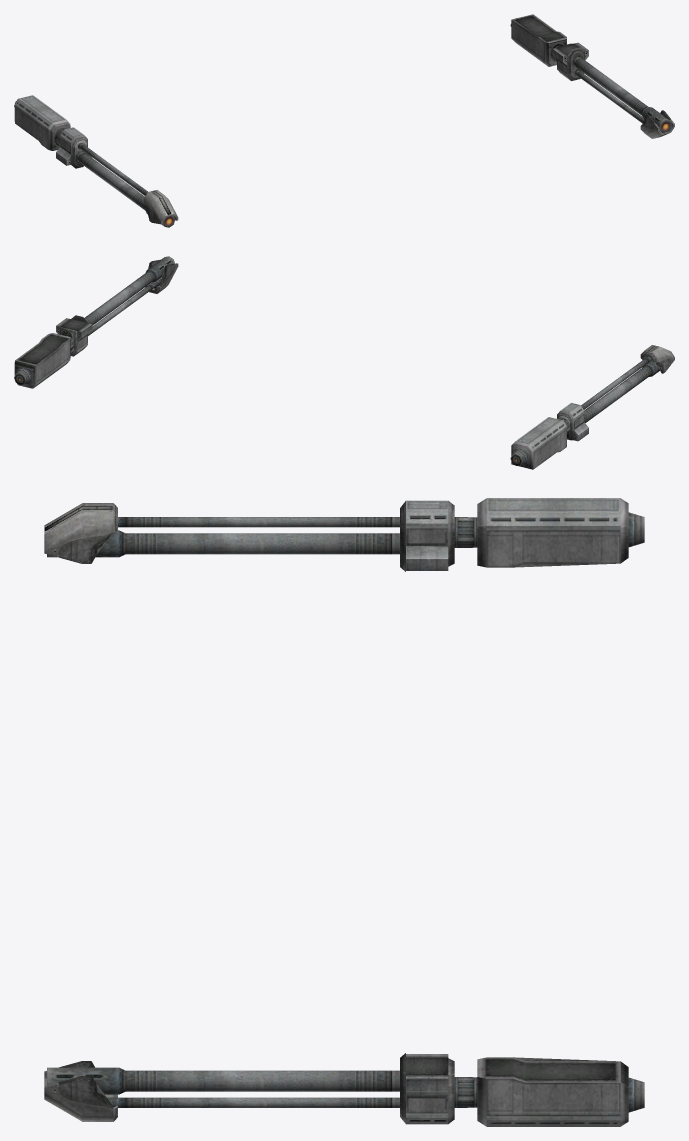
The model's file is xwing_weapon1_pos_s06_l0.fbx.
3 views of the same model, one above another, from view 1: azimuth 30°, elevation 25°; view 2: azimuth 150°, elevation 25°; view 3: azimuth 270°, elevation 25° (orthographic). The views are drawn at different scales.
Visible parts, largest first — view 1: mesh_node; view 2: mesh_node; view 3: mesh_node.
Boxes of the visible parts, <box> form: mesh_node: <box>14,14,674,227</box>; mesh_node: <box>14,256,674,469</box>; mesh_node: <box>44,498,644,1126</box>.
Bounding box in the file's own units: 12.97 × 1.55 × 6.45.
